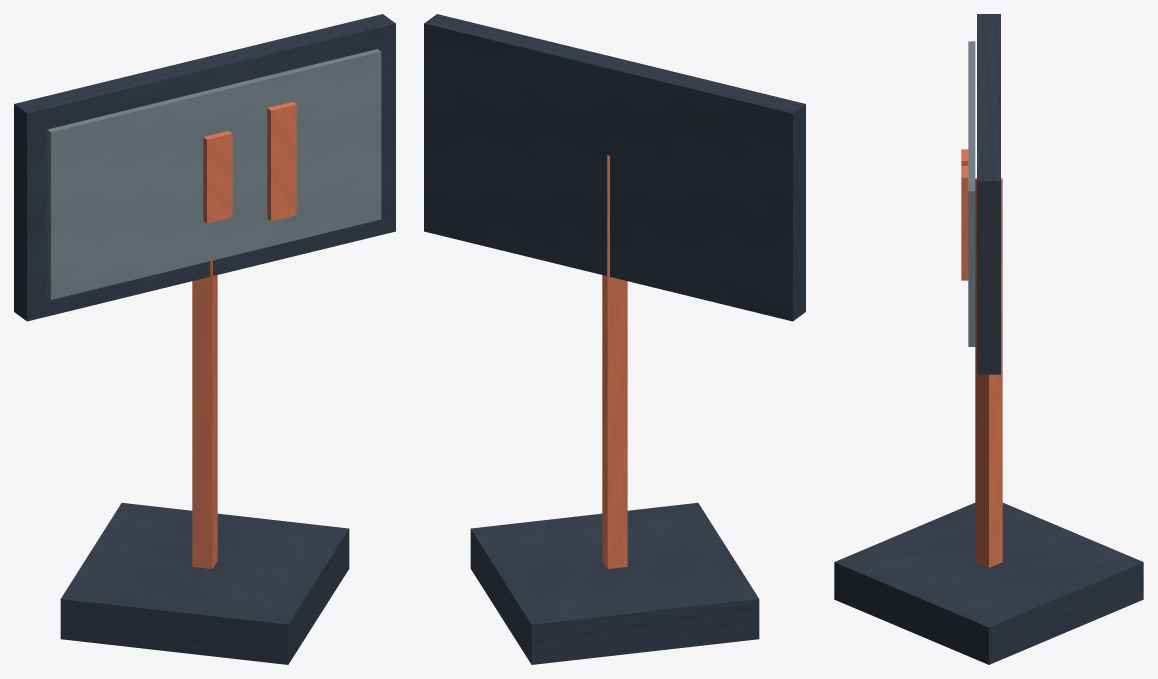
File: atlas100-s021-a11.lod1.glb
3 views of the same model, side by side, from view 1: azimuth 30°, elevation 25°; view 2: azimuth 150°, elevation 25°; view 3: azimuth 270°, elevation 25° (orthographic). The views are drawn at different scales.
Parts seen in each view (by area): view 1: atlas100-s021-a11:part-003, atlas100-s021-a11:part-000, atlas100-s021-a11:part-002, atlas100-s021-a11:part-001, atlas100-s021-a11:part-006, atlas100-s021-a11:part-005; view 2: atlas100-s021-a11:part-002, atlas100-s021-a11:part-000, atlas100-s021-a11:part-001; view 3: atlas100-s021-a11:part-000, atlas100-s021-a11:part-002, atlas100-s021-a11:part-001, atlas100-s021-a11:part-003, atlas100-s021-a11:part-006.
Boxes of the visible parts, left/top/right/bottom form: atlas100-s021-a11:part-003: left=47, top=49, right=381, bottom=299; atlas100-s021-a11:part-000: left=60, top=503, right=349, bottom=664; atlas100-s021-a11:part-002: left=14, top=14, right=395, bottom=321; atlas100-s021-a11:part-001: left=192, top=260, right=217, bottom=568; atlas100-s021-a11:part-006: left=267, top=102, right=296, bottom=221; atlas100-s021-a11:part-005: left=203, top=131, right=232, bottom=223; atlas100-s021-a11:part-002: left=424, top=14, right=805, bottom=321; atlas100-s021-a11:part-000: left=470, top=503, right=759, bottom=664; atlas100-s021-a11:part-001: left=602, top=155, right=627, bottom=568; atlas100-s021-a11:part-000: left=834, top=503, right=1143, bottom=664; atlas100-s021-a11:part-002: left=977, top=14, right=1000, bottom=374; atlas100-s021-a11:part-001: left=975, top=178, right=1002, bottom=567; atlas100-s021-a11:part-003: left=968, top=41, right=975, bottom=346; atlas100-s021-a11:part-006: left=961, top=166, right=968, bottom=280.
Bounding box in the file's own units: 1.15 × 1.61 × 0.9.
Materials: 3 (3 with a texture image).
